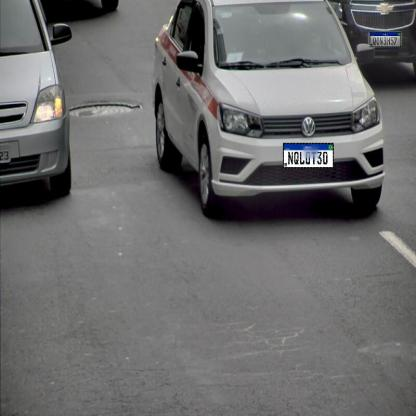PlacaM: (283, 143, 334, 168), (370, 32, 401, 47)
